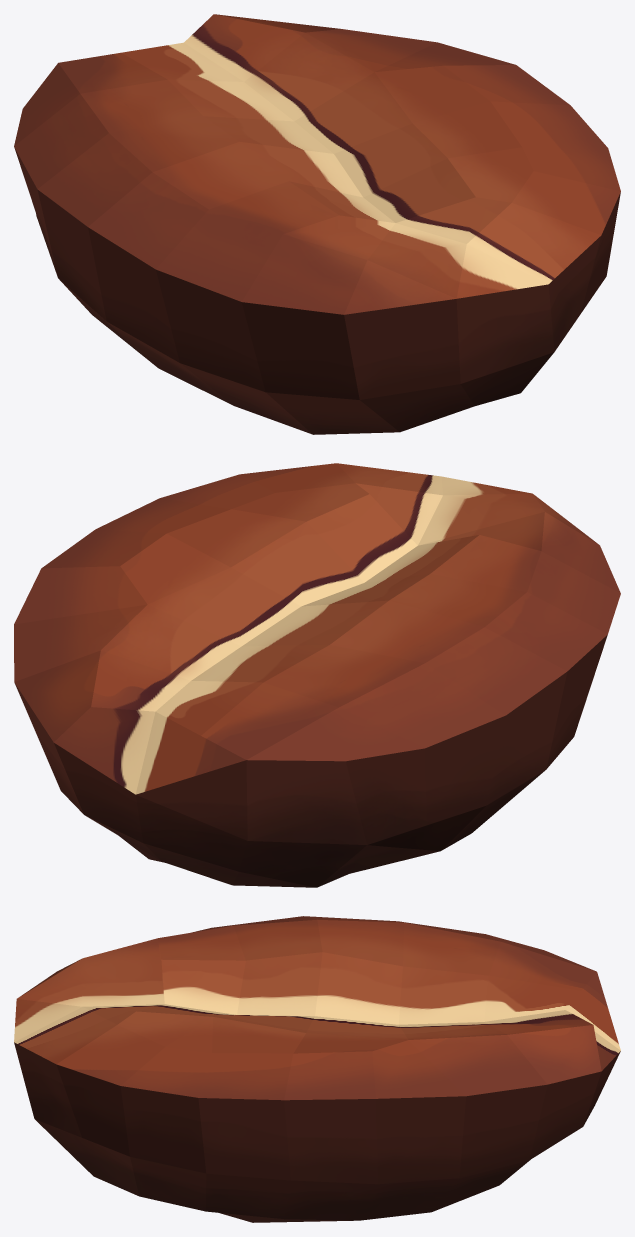
File: robusta.fbx
3 renders of one model, top to bottom at view 1: azimuth 30°, elevation 25°; view 2: azimuth 150°, elevation 25°; view 3: azimuth 270°, elevation 25°, orthographic. The views are drawn at different scales.
Parts seen in each view (by area): view 1: RobustaRetopo; view 2: RobustaRetopo; view 3: RobustaRetopo.
Part boxes in pixels (<box>): RobustaRetopo: <box>14,14,620,434</box>; RobustaRetopo: <box>14,463,620,887</box>; RobustaRetopo: <box>14,916,620,1222</box>.
Bounding box in the file's own units: 25.95 × 13.35 × 33.77.
